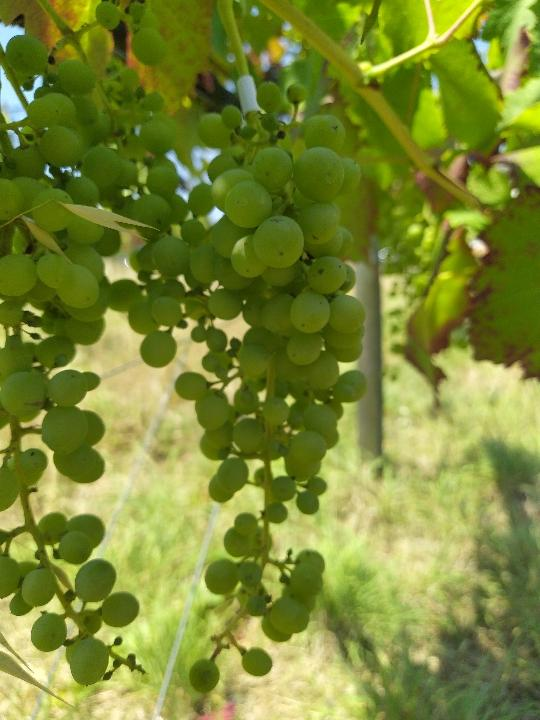grape: (105, 76, 370, 694)
